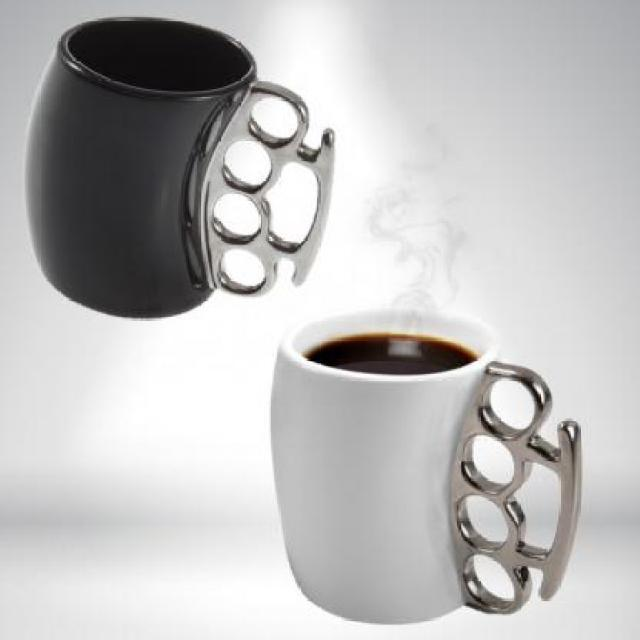taza: (267, 312, 588, 628), (22, 14, 336, 321)
